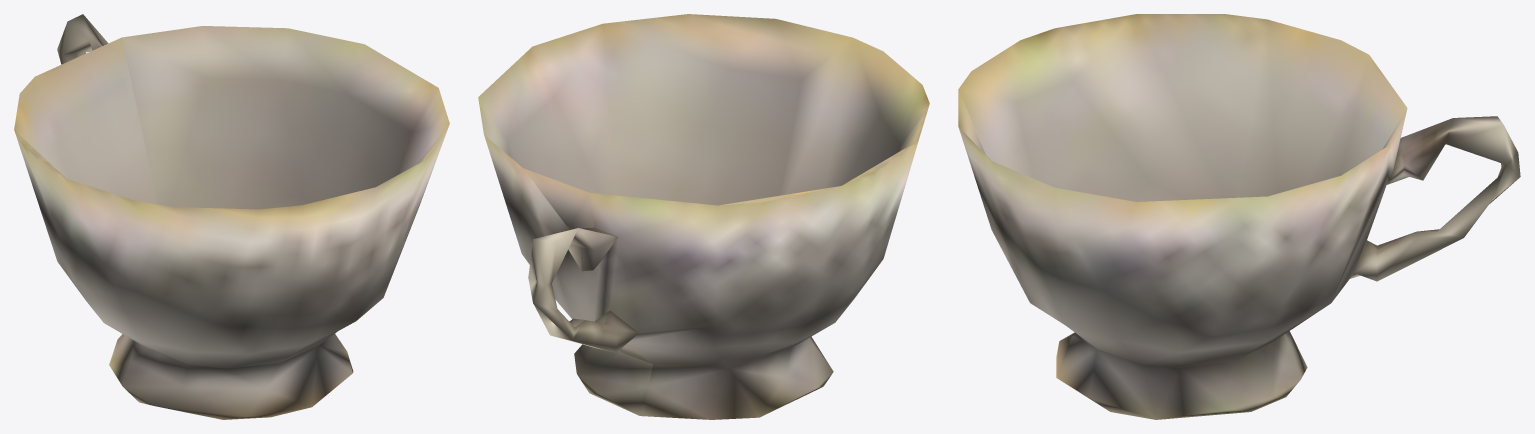
Rendered from tea_cup.glb.
3 renders of one model, left to right at view 1: azimuth 30°, elevation 25°; view 2: azimuth 150°, elevation 25°; view 3: azimuth 270°, elevation 25°, orthographic. The views are drawn at different scales.
Parts seen in each view (by area): view 1: tea_cup; view 2: tea_cup; view 3: tea_cup.
Boxes of the visible parts, x1=… form: tea_cup: x1=14, y1=14, x2=449, y2=419; tea_cup: x1=478, y1=14, x2=929, y2=419; tea_cup: x1=958, y1=14, x2=1520, y2=419.
Bounding box in the file's own units: 0.1036 × 0.0667 × 0.131.
Materials: 1 (1 with a texture image).
